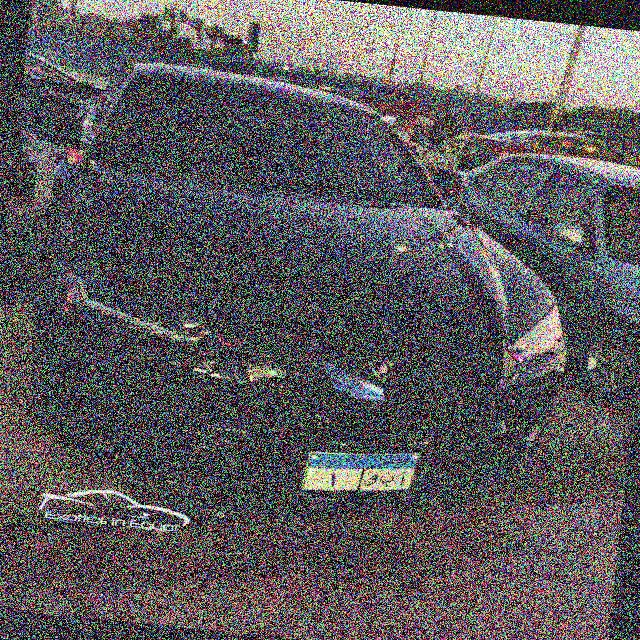License Plate: (299, 441, 419, 505)
